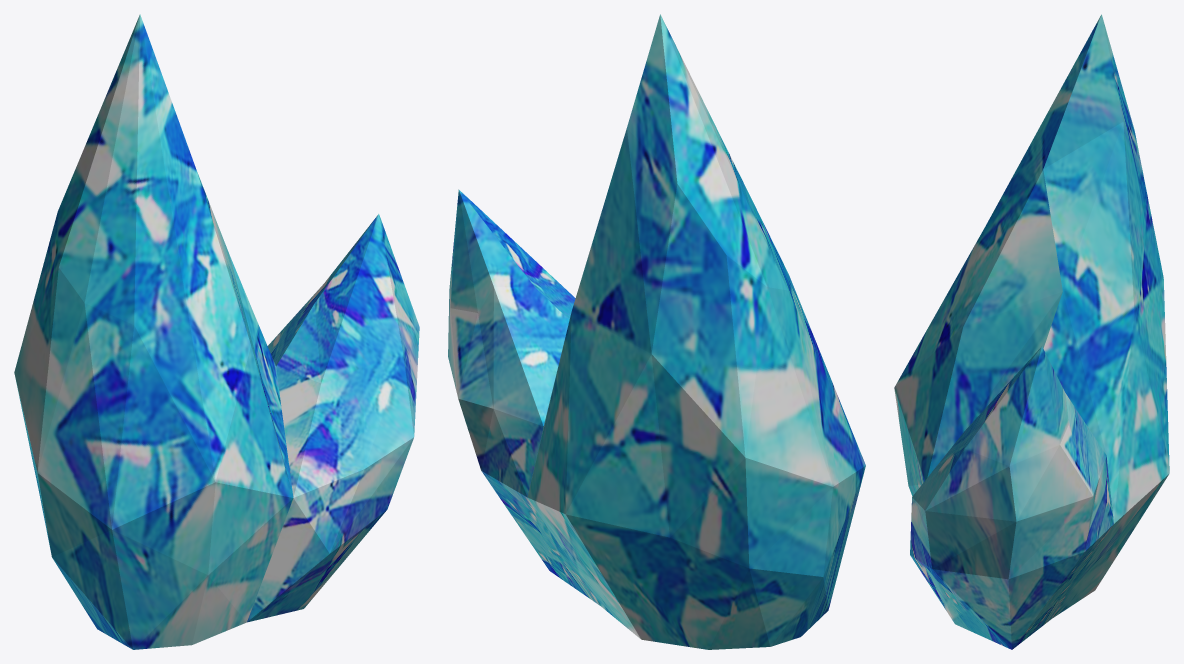
The model's file is Ore.fbx.
The picture shows the model from 3 angles, left to right: view 1: azimuth 30°, elevation 25°; view 2: azimuth 150°, elevation 25°; view 3: azimuth 270°, elevation 25°; orthographic projection. The views are drawn at different scales.
Parts seen in each view (by area): view 1: Box001; view 2: Box001; view 3: Box001.
Part boxes in pixels (x1=…): Box001: x1=14, y1=14, x2=419, y2=649; Box001: x1=448, y1=14, x2=865, y2=649; Box001: x1=894, y1=14, x2=1169, y2=649.
Bounding box in the file's own units: 28.72 × 42.82 × 18.86.
Materials: 1 (1 with a texture image).
